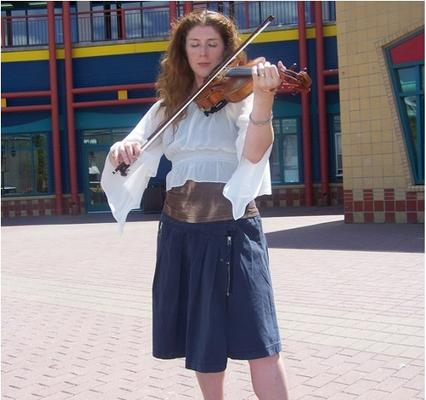person: (101, 10, 292, 400)
